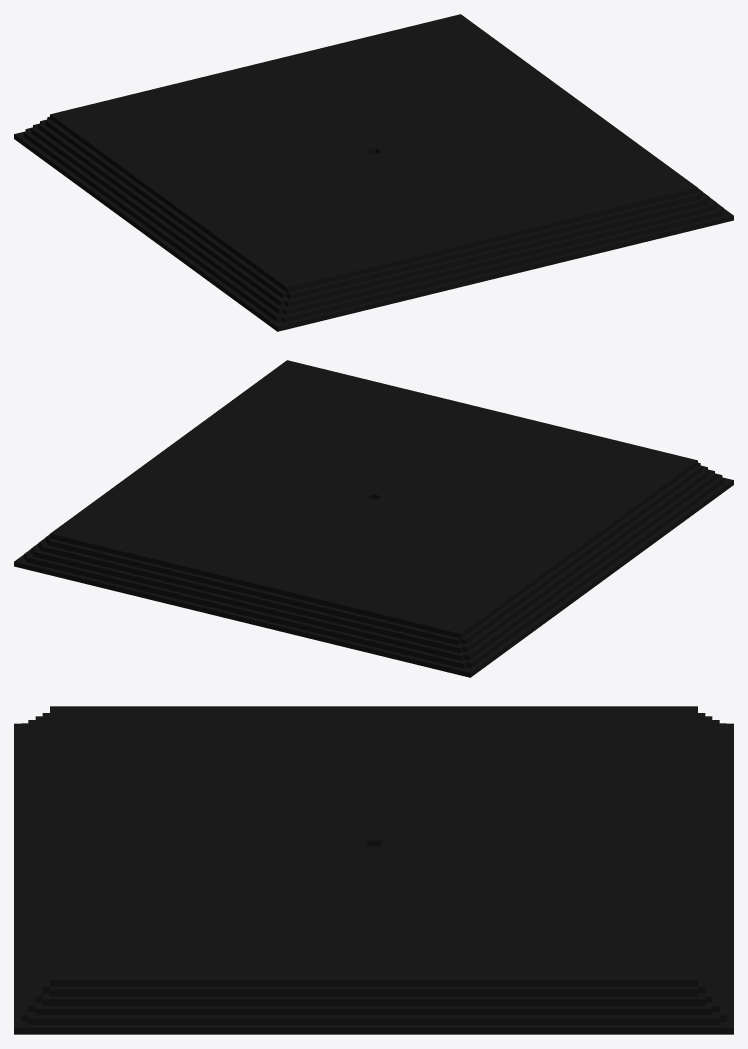
The model's file is Bank-1.obj.
3 views of the same model, one above another, from view 1: azimuth 30°, elevation 25°; view 2: azimuth 150°, elevation 25°; view 3: azimuth 270°, elevation 25° (orthographic). The views are drawn at different scales.
Visible parts, largest first — view 1: Bank-1; view 2: Bank-1; view 3: Bank-1.
Part boxes in pixels (x1,y1,x2,y2): Bank-1: [14, 14, 733, 331]; Bank-1: [14, 360, 733, 677]; Bank-1: [14, 706, 733, 1034].
Size of the model in its own units: 100 by 6 by 100.
Materials: 1 (1 with a texture image).
